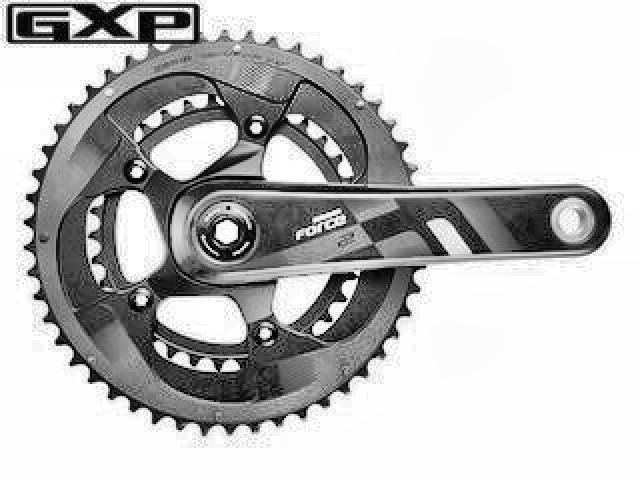cranks_set: (23, 29, 612, 436)
